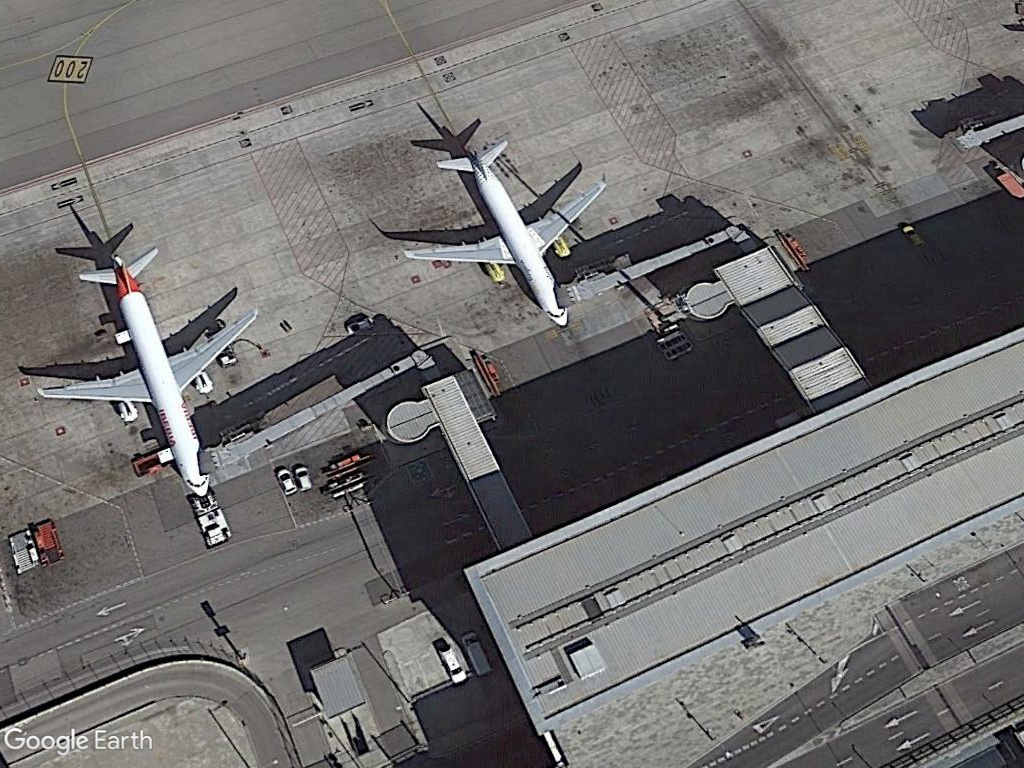airliner: (21, 240, 262, 499), (391, 133, 615, 336)
stairtruck: (188, 493, 237, 555)
